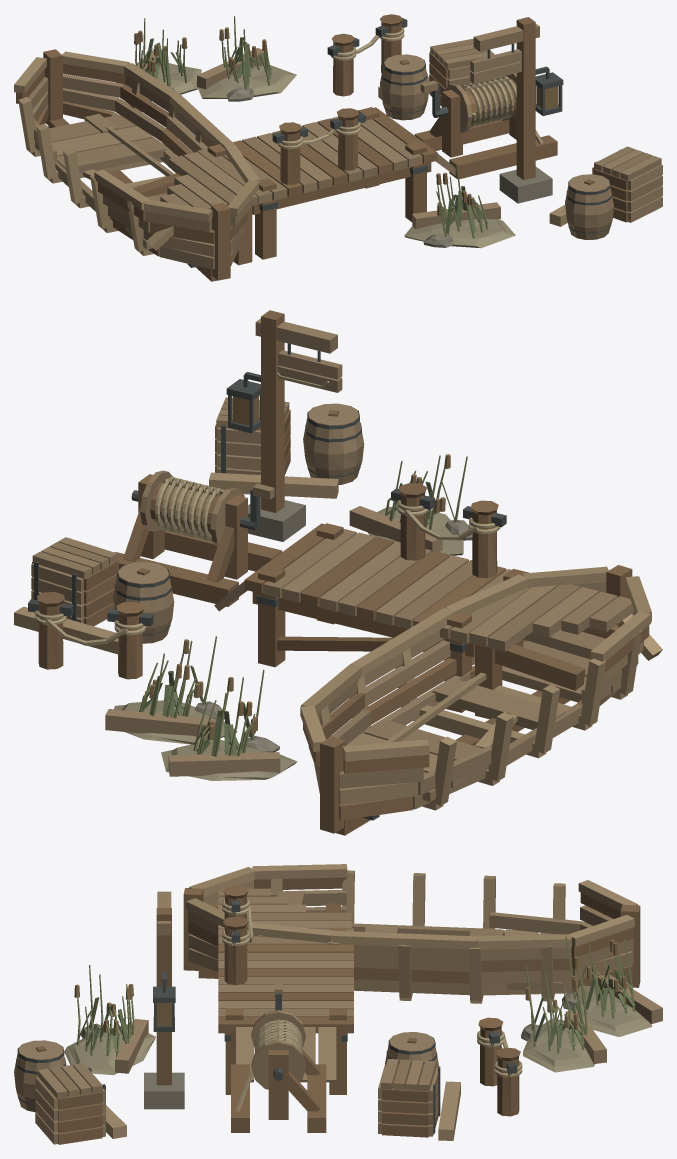
The model's file is reedwake-crossing.glb.
3 renders of one model, top to bottom at view 1: azimuth 30°, elevation 25°; view 2: azimuth 150°, elevation 25°; view 3: azimuth 270°, elevation 25°, orthographic. The views are drawn at different scales.
Parts seen in each view (by area): view 1: Reedwake game waterfront; view 2: Reedwake game waterfront; view 3: Reedwake game waterfront.
Part boxes in pixels (x1,y1,x2,y2): Reedwake game waterfront: [14, 14, 662, 281]; Reedwake game waterfront: [14, 310, 662, 835]; Reedwake game waterfront: [14, 864, 662, 1144].
Bounding box in the file's own units: 7.28 × 3.21 × 8.52.
